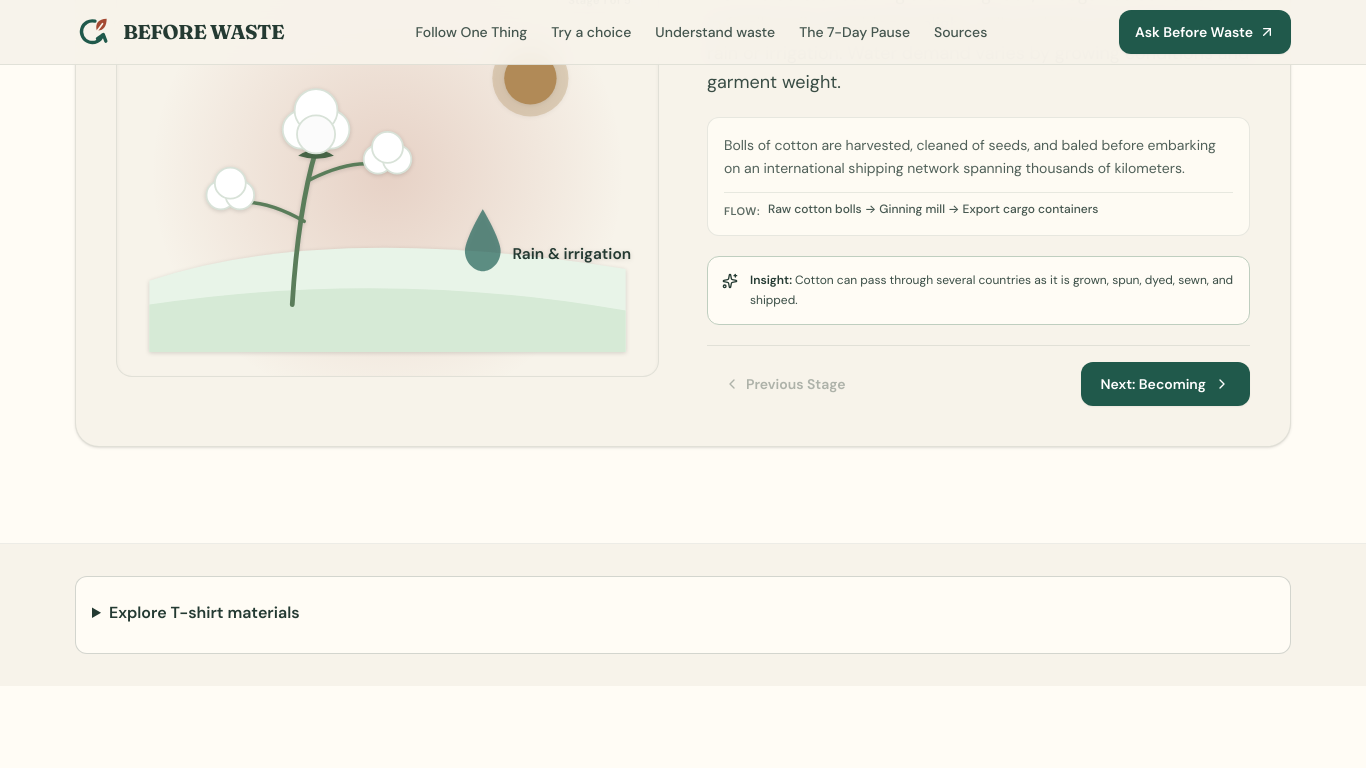
Test case: real application interactions › brings the new chapter into view after Next and Previous
(page scrolled)
Click the button "Next: Becoming": (1165, 384) x1=1081 y1=362 x2=1250 y2=406
(page scrolled)
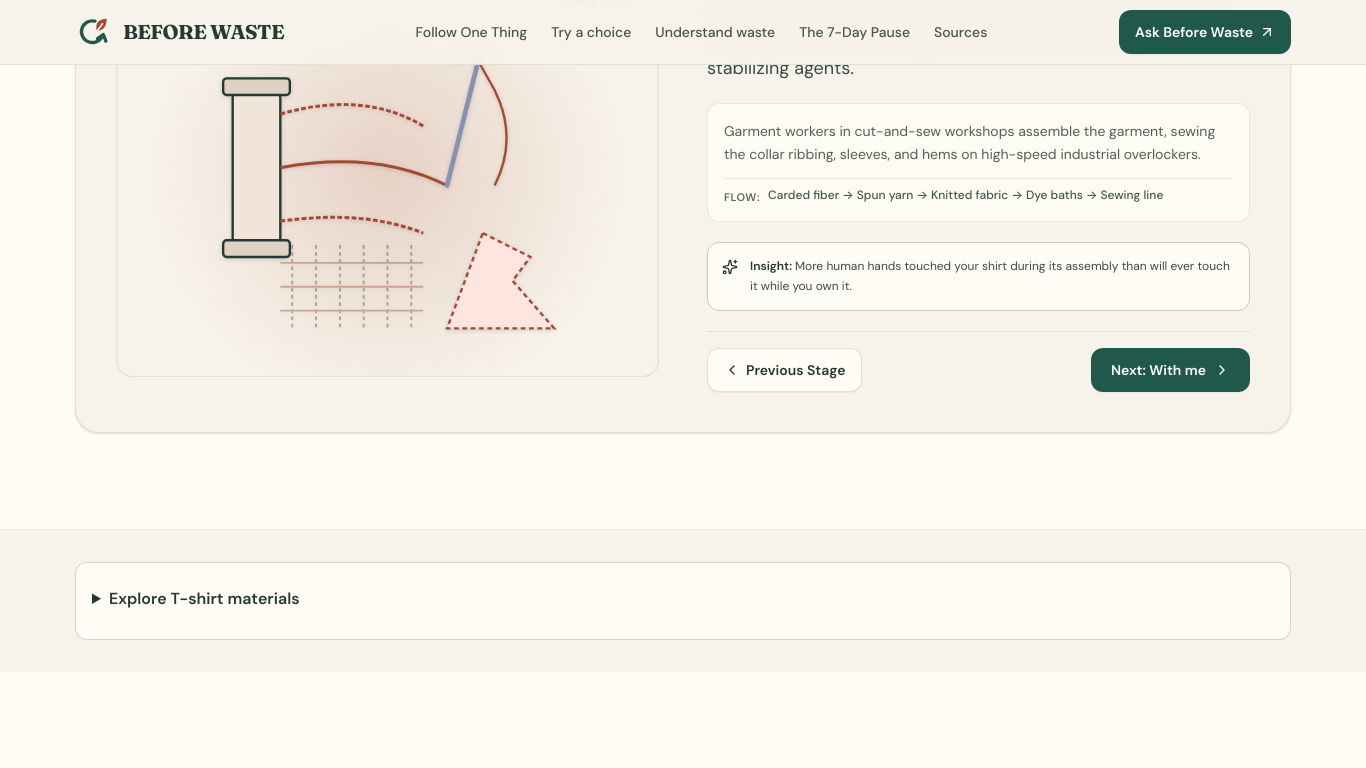
Click the button "Previous Stage": (785, 370) x1=707 y1=348 x2=862 y2=392
(page scrolled)
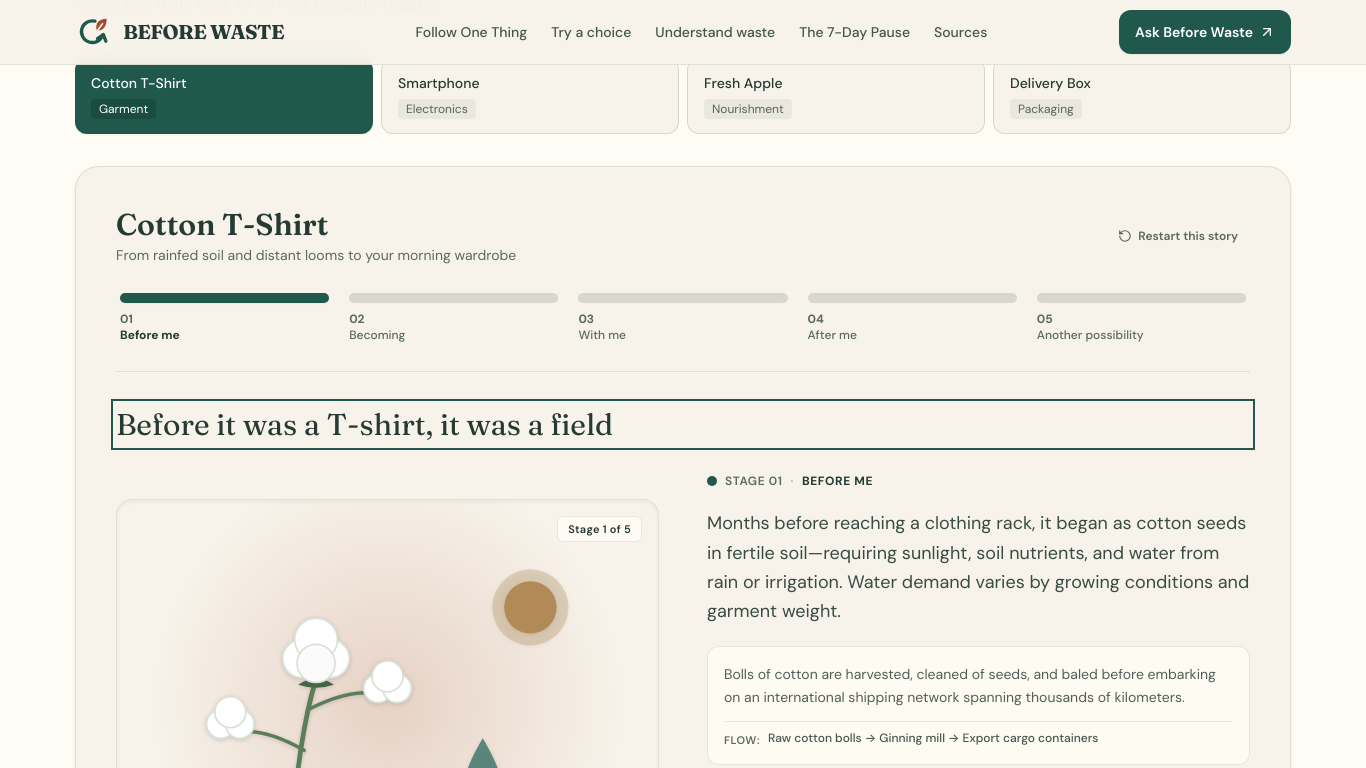
Now the heading with id "story-stage-title" shows "Before it was a T-shirt", box x1=116 y1=406 x2=613 y2=443
